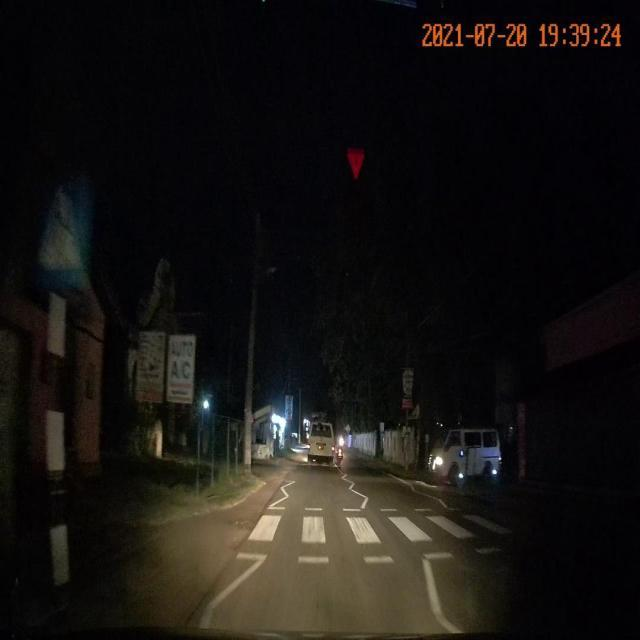Crosswalk: (232, 502, 541, 570)
